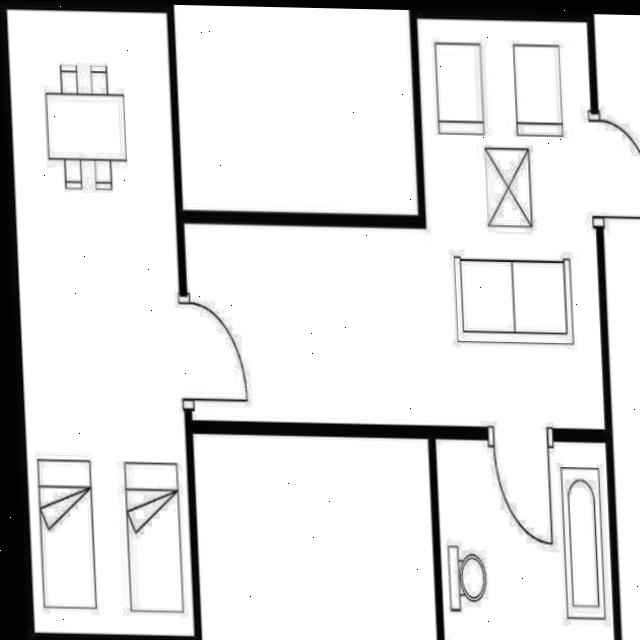room: (175, 10, 605, 447), (7, 2, 194, 640), (435, 431, 614, 640)
